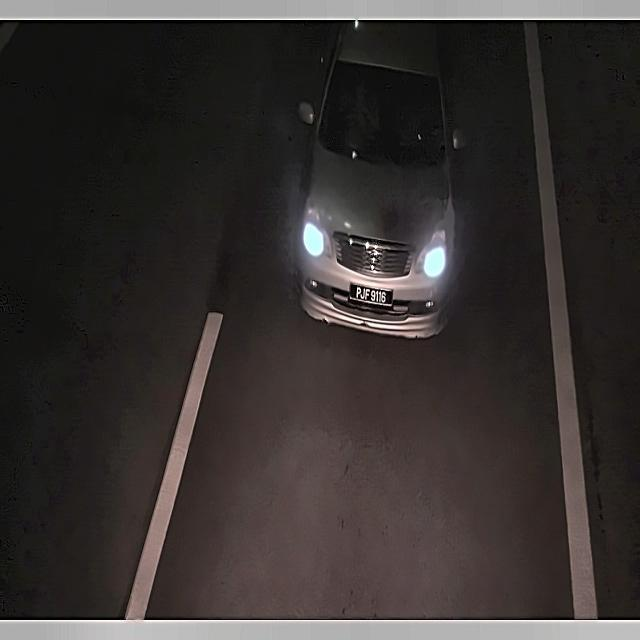car: (347, 277, 400, 321)
